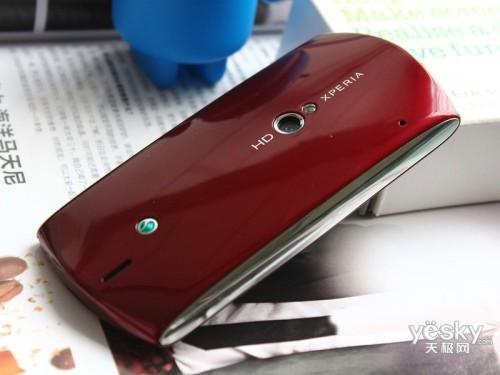phone: (35, 32, 455, 343)
